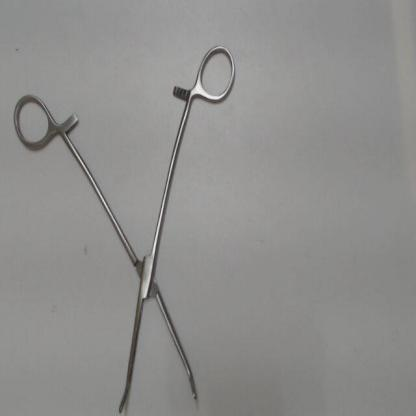Lahey Forceps: (0, 39, 244, 415)
